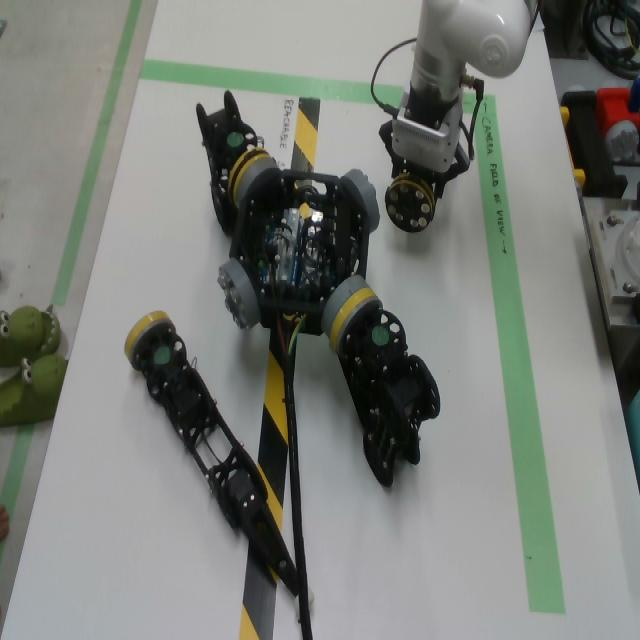body: (229, 171, 370, 336)
body_connector: (216, 259, 261, 331), (321, 275, 369, 339), (340, 169, 380, 233), (235, 157, 280, 208)
gripper: (378, 89, 469, 200)
leg: (123, 311, 299, 619), (329, 287, 441, 489), (196, 91, 270, 237), (385, 159, 438, 233)
leg_connector: (330, 288, 379, 360), (384, 173, 435, 233), (124, 311, 175, 369), (229, 148, 271, 205)
leg_marker: (373, 327, 390, 345), (154, 345, 169, 364), (227, 132, 244, 147)
